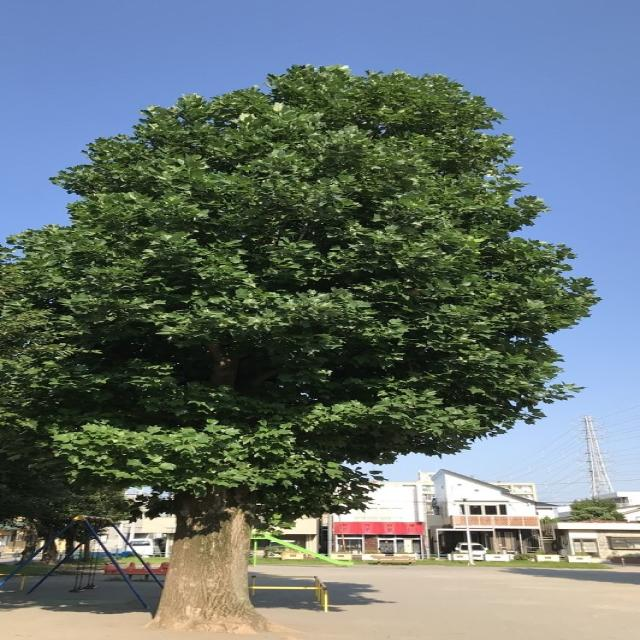ginkgo: (0, 63, 607, 634)
